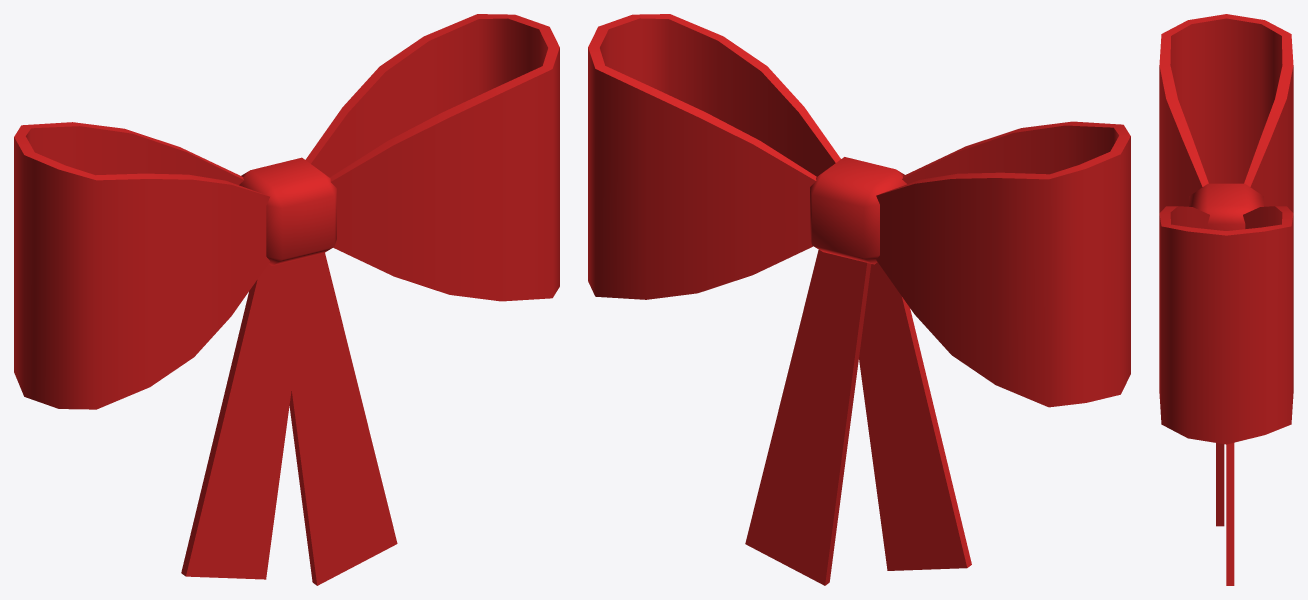
File: Bow_1.glb
The picture shows the model from 3 angles, left to right: view 1: azimuth 30°, elevation 25°; view 2: azimuth 150°, elevation 25°; view 3: azimuth 270°, elevation 25°; orthographic projection. The views are drawn at different scales.
Parts seen in each view (by area): view 1: Bow_1; view 2: Bow_1; view 3: Bow_1.
Part boxes in pixels (x1,y1,x2,y2): Bow_1: (14,14,559,585); Bow_1: (588,14,1130,585); Bow_1: (1159,14,1293,585).
Bounding box in the file's own units: 1.79 × 1.63 × 0.4575.
1 material, 1 textured.
